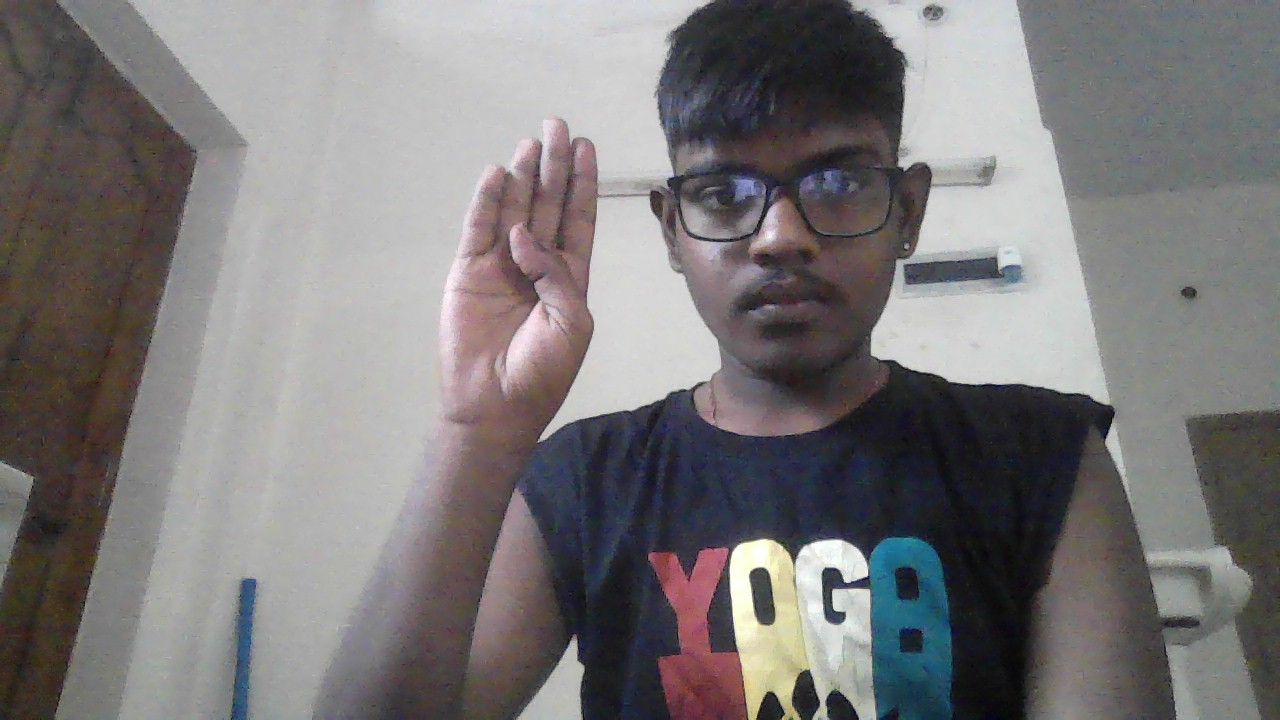B: (439, 115, 596, 414)
